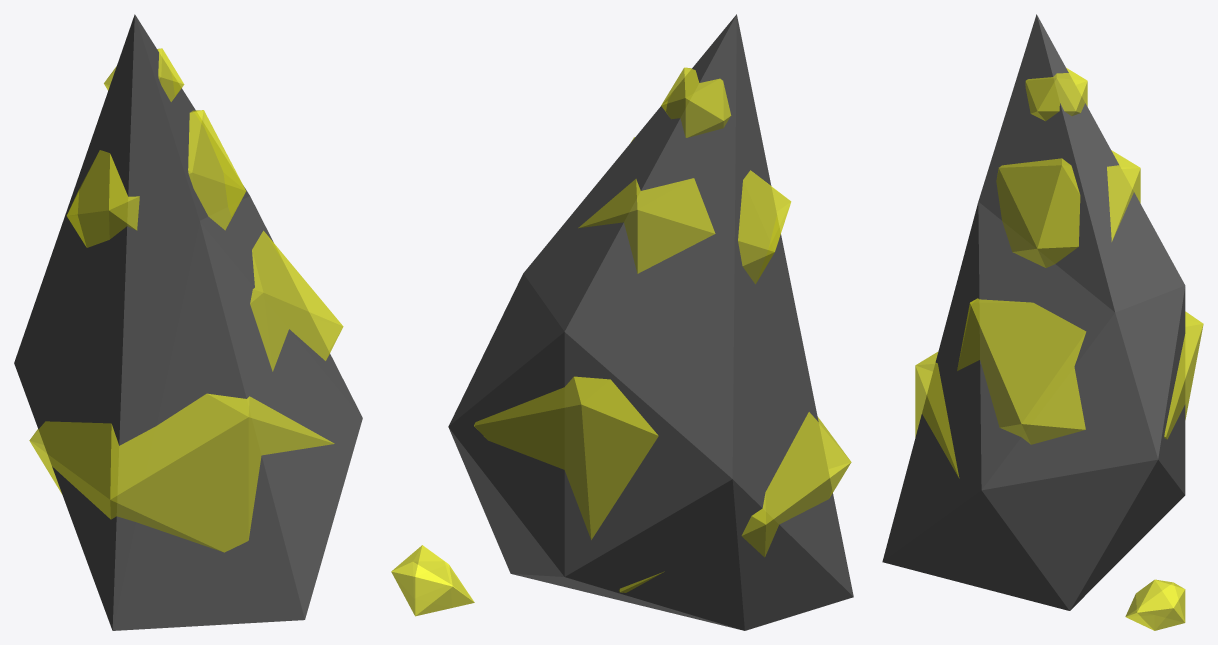
Rendered from Stone_Yellow.fbx.
3 renders of one model, left to right at view 1: azimuth 30°, elevation 25°; view 2: azimuth 150°, elevation 25°; view 3: azimuth 270°, elevation 25°, orthographic. The views are drawn at different scales.
Parts seen in each view (by area): view 1: Stone, Solide_platonicien, Solide_platonicien_2_2, Solide_platonicien_1, Solide_platonicien_2; view 2: Stone, Solide_platonicien_1, Solide_platonicien_2_2, Solide_platonicien, Solide_platonicien_3, Solide_platonicien_2; view 3: Stone, Solide_platonicien_1, Solide_platonicien_2_2, Solide_platonicien, Solide_platonicien_2, Solide_platonicien_3.
Boxes of the visible parts, x1,y1,x2,y2 form: Stone: (14, 14, 362, 630); Solide_platonicien: (29, 393, 334, 552); Solide_platonicien_2_2: (66, 110, 246, 247); Solide_platonicien_1: (250, 231, 343, 371); Solide_platonicien_2: (104, 48, 184, 101); Stone: (448, 14, 853, 630); Solide_platonicien_1: (474, 376, 658, 539); Solide_platonicien_2_2: (578, 137, 791, 283); Solide_platonicien: (619, 412, 851, 592); Solide_platonicien_3: (391, 545, 474, 616); Solide_platonicien_2: (661, 67, 730, 137); Stone: (882, 14, 1185, 610); Solide_platonicien_1: (957, 298, 1203, 444); Solide_platonicien_2_2: (996, 150, 1140, 267); Solide_platonicien: (915, 352, 959, 478); Solide_platonicien_2: (1025, 67, 1087, 120); Solide_platonicien_3: (1125, 579, 1185, 630).
Bounding box in the file's own units: 143 × 245 × 139.
